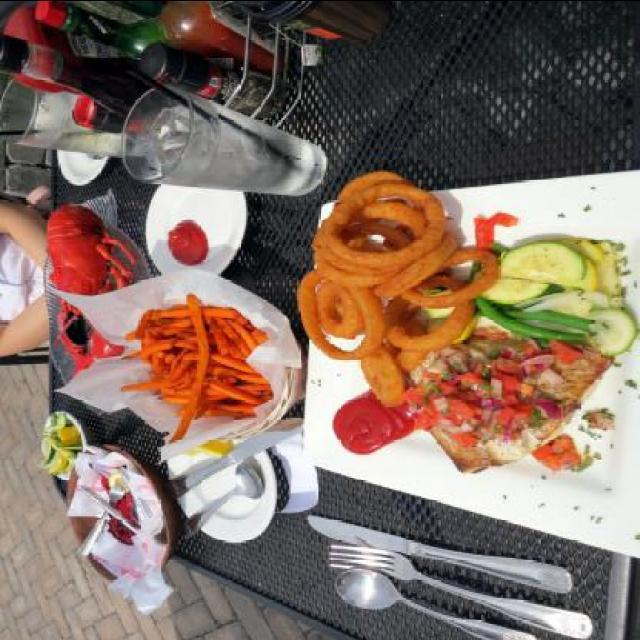Tomato: (546, 340, 582, 363), (447, 398, 476, 422), (534, 439, 558, 461), (491, 370, 514, 392), (516, 399, 534, 424), (454, 370, 482, 384), (416, 411, 434, 431), (495, 358, 517, 374), (498, 390, 516, 408), (458, 431, 478, 446), (496, 408, 514, 424), (402, 387, 416, 407), (436, 380, 456, 394)
